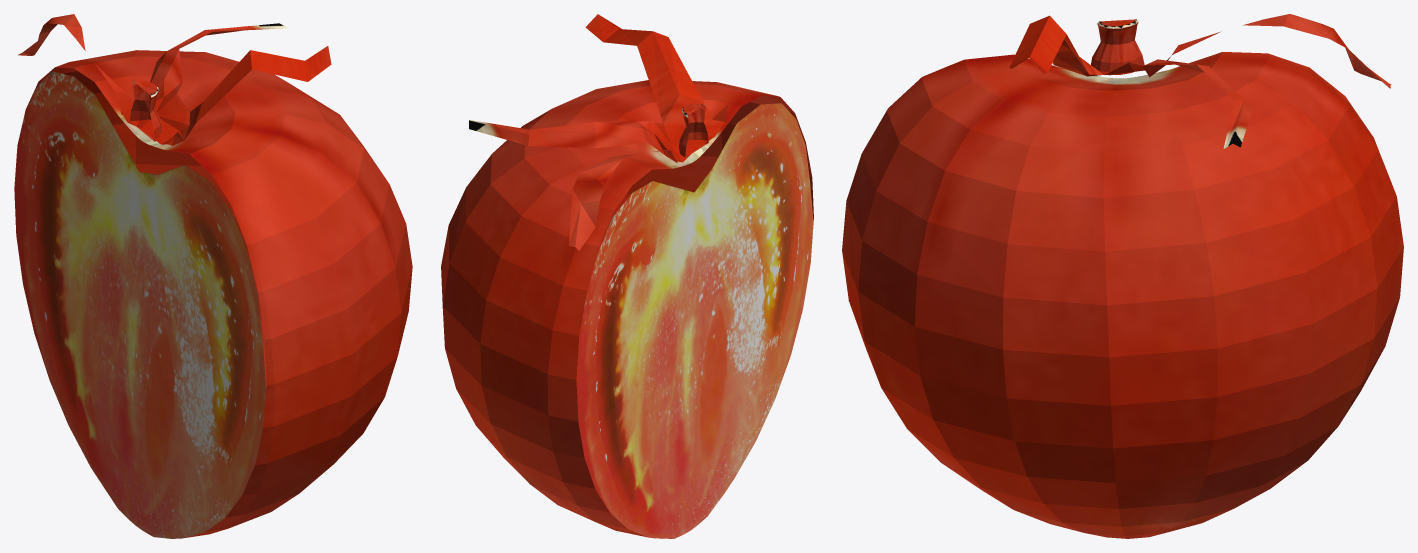
The model's file is tomato_right.obj.
3 views of the same model, side by side, from view 1: azimuth 30°, elevation 25°; view 2: azimuth 150°, elevation 25°; view 3: azimuth 270°, elevation 25° (orthographic). The views are drawn at different scales.
Visible parts, largest first — view 1: tomato_half; view 2: tomato_half; view 3: tomato_half.
Boxes of the visible parts, <box> form: tomato_half: <box>14,14,412,538</box>; tomato_half: <box>441,14,813,538</box>; tomato_half: <box>842,14,1403,538</box>.
Size of the model in its own units: 0.0415 by 0.0813 by 0.077.
